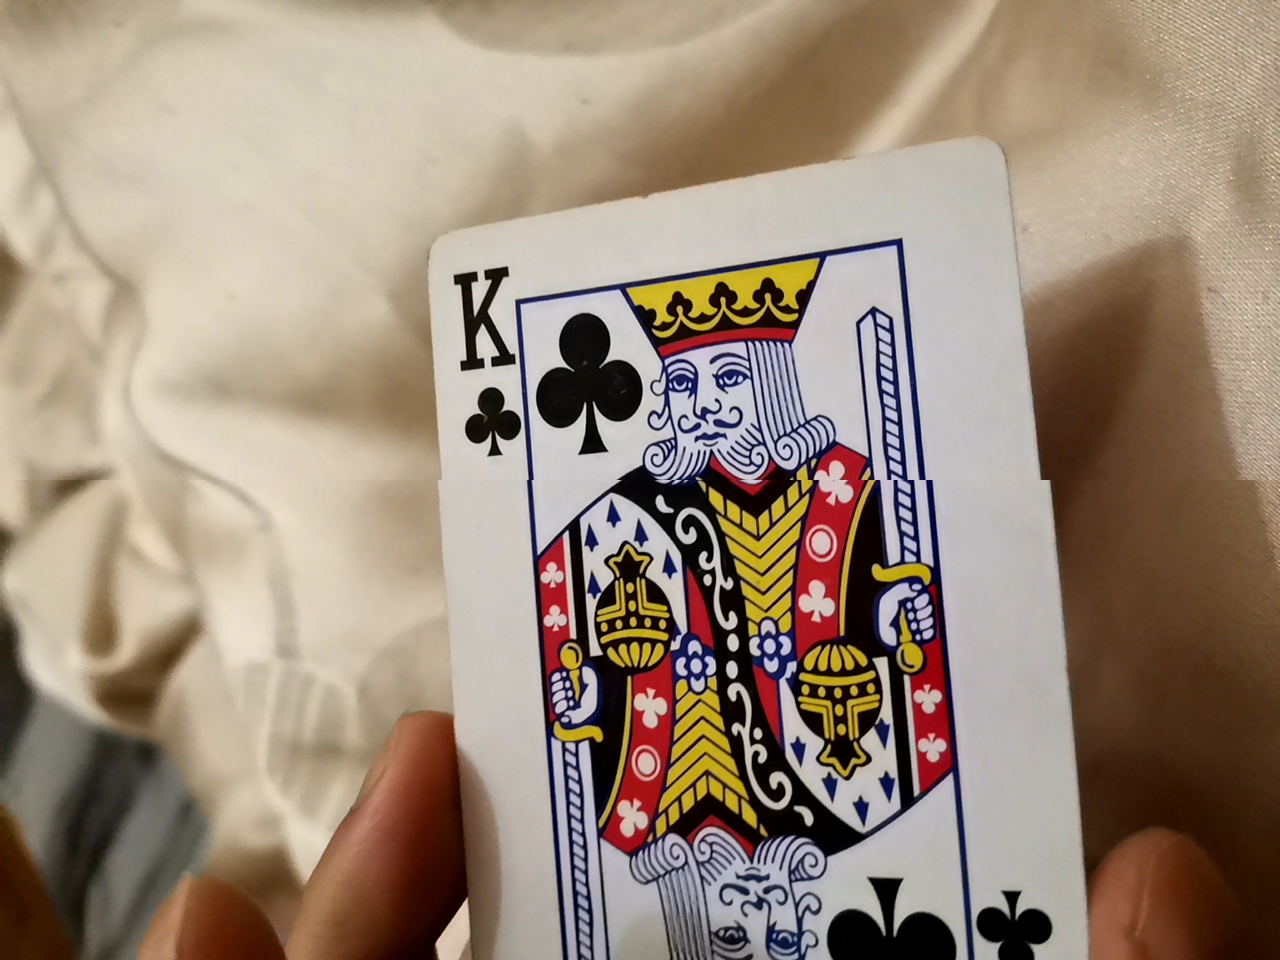mh k: (402, 130, 1091, 956)
